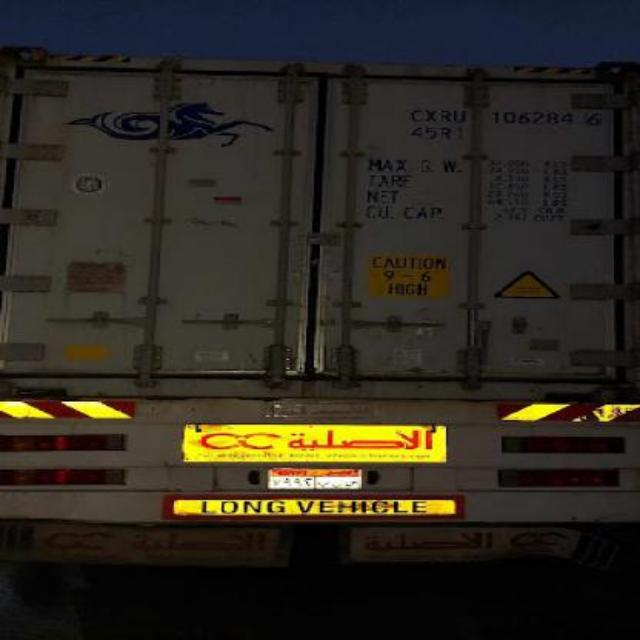0: (504, 106, 518, 132)
1: (482, 105, 504, 129)
2: (528, 106, 546, 128)
4: (560, 109, 576, 127)
6: (584, 111, 608, 127), (518, 103, 530, 129)
8: (544, 108, 560, 128)
C: (404, 106, 424, 124)
R: (436, 104, 449, 126)
U: (450, 104, 466, 126)
X: (422, 106, 436, 126)
